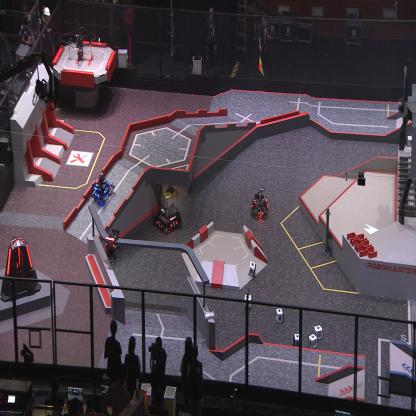car: (154, 184, 182, 234), (90, 173, 116, 206), (249, 186, 269, 219)
